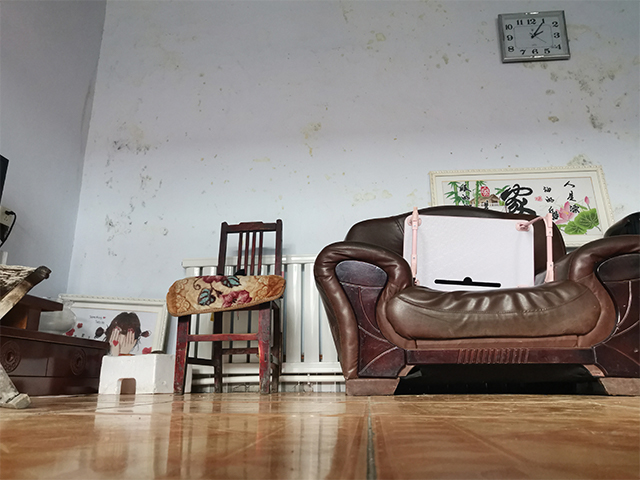cabinet: (1, 292, 113, 398)
sofa: (312, 203, 640, 398)
stool: (170, 215, 287, 395)
